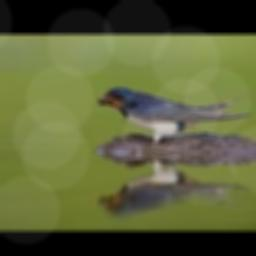Swallow: (98, 86, 256, 145)
